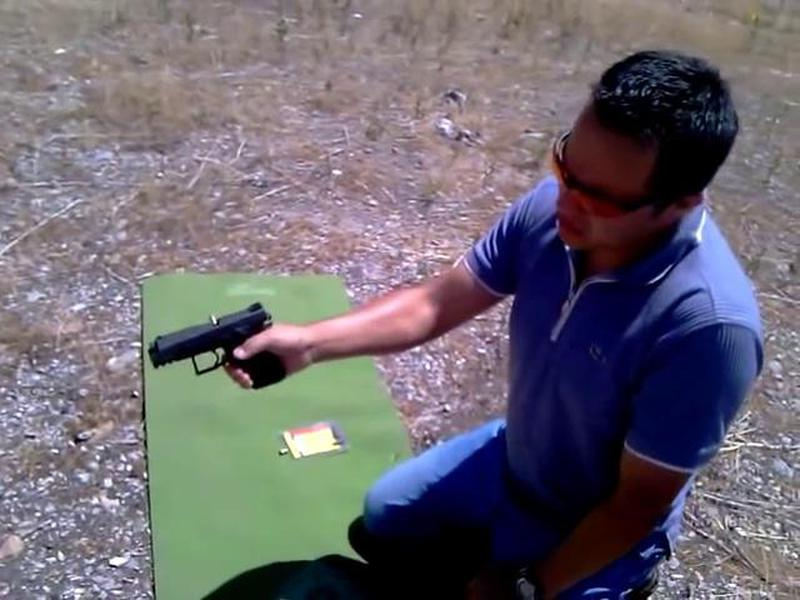Pistola: (137, 280, 288, 413)
